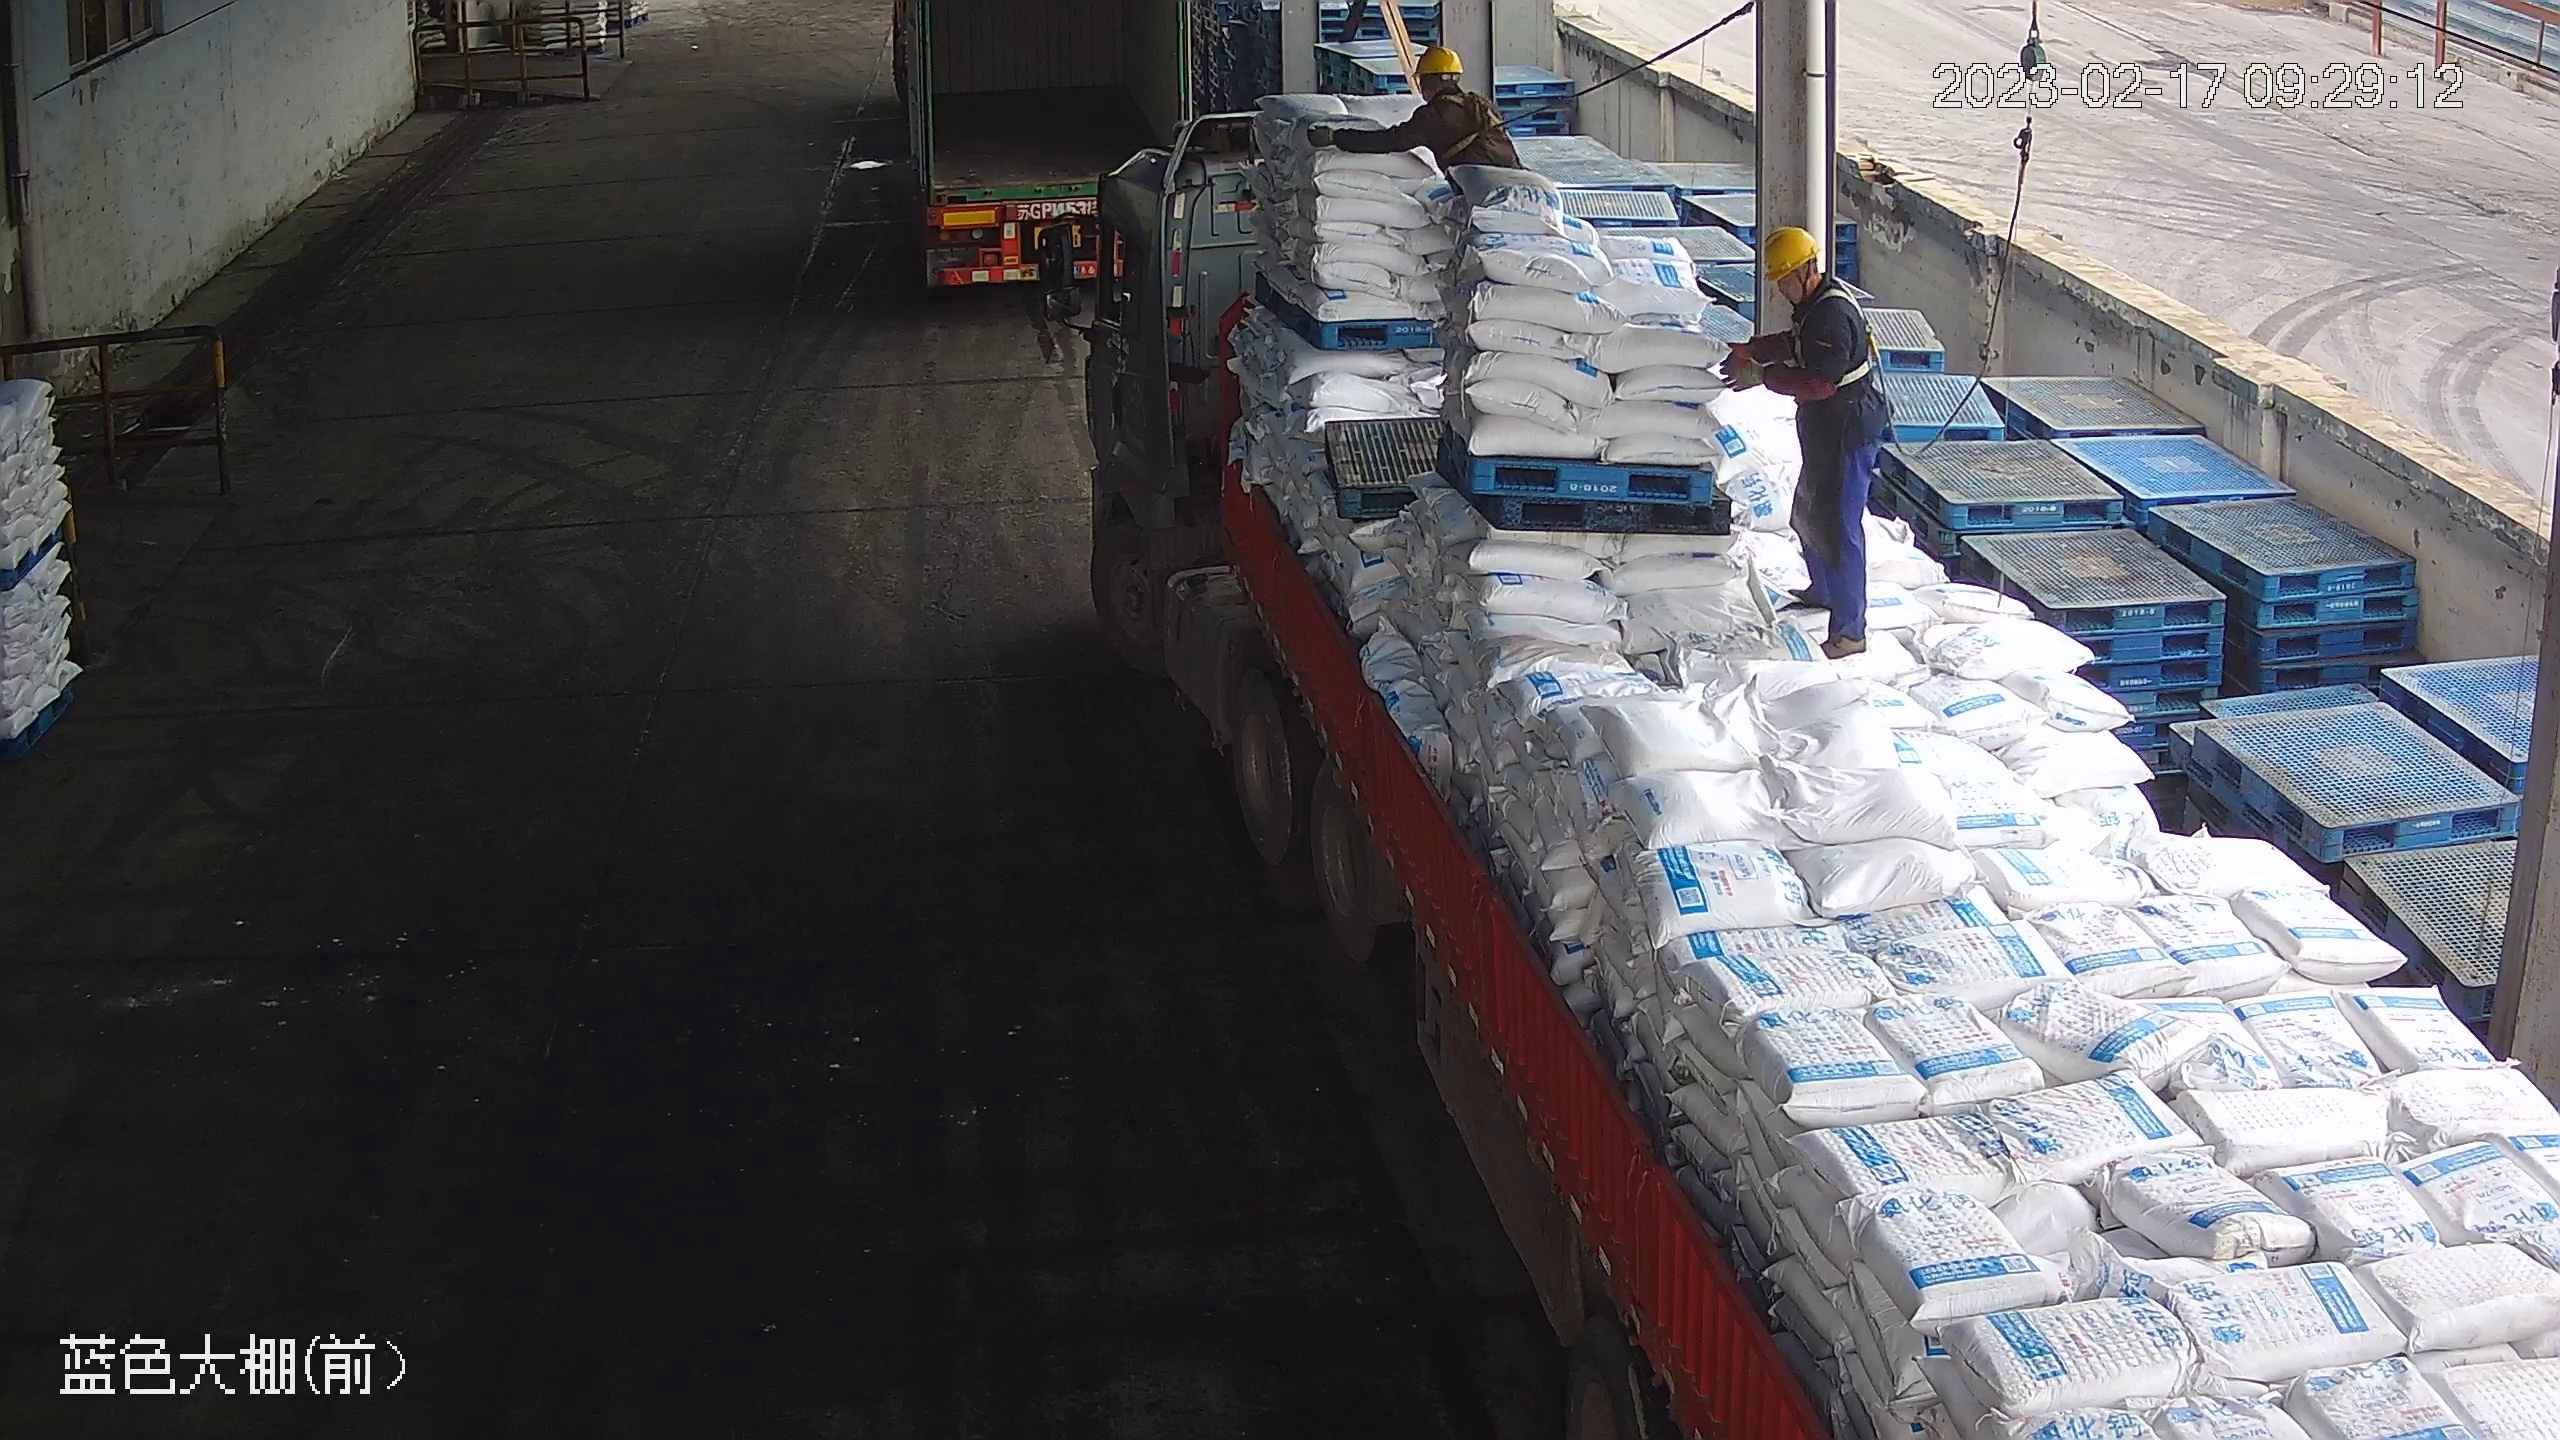belt: (1793, 274, 1884, 384), (1440, 91, 1517, 152)
head: (1749, 225, 1871, 362), (1379, 45, 1515, 147)
helmet: (1762, 225, 1825, 283), (1410, 45, 1464, 76)
people: (1708, 222, 1895, 654)
truck: (1034, 98, 2560, 1440), (901, 1, 1208, 303)
